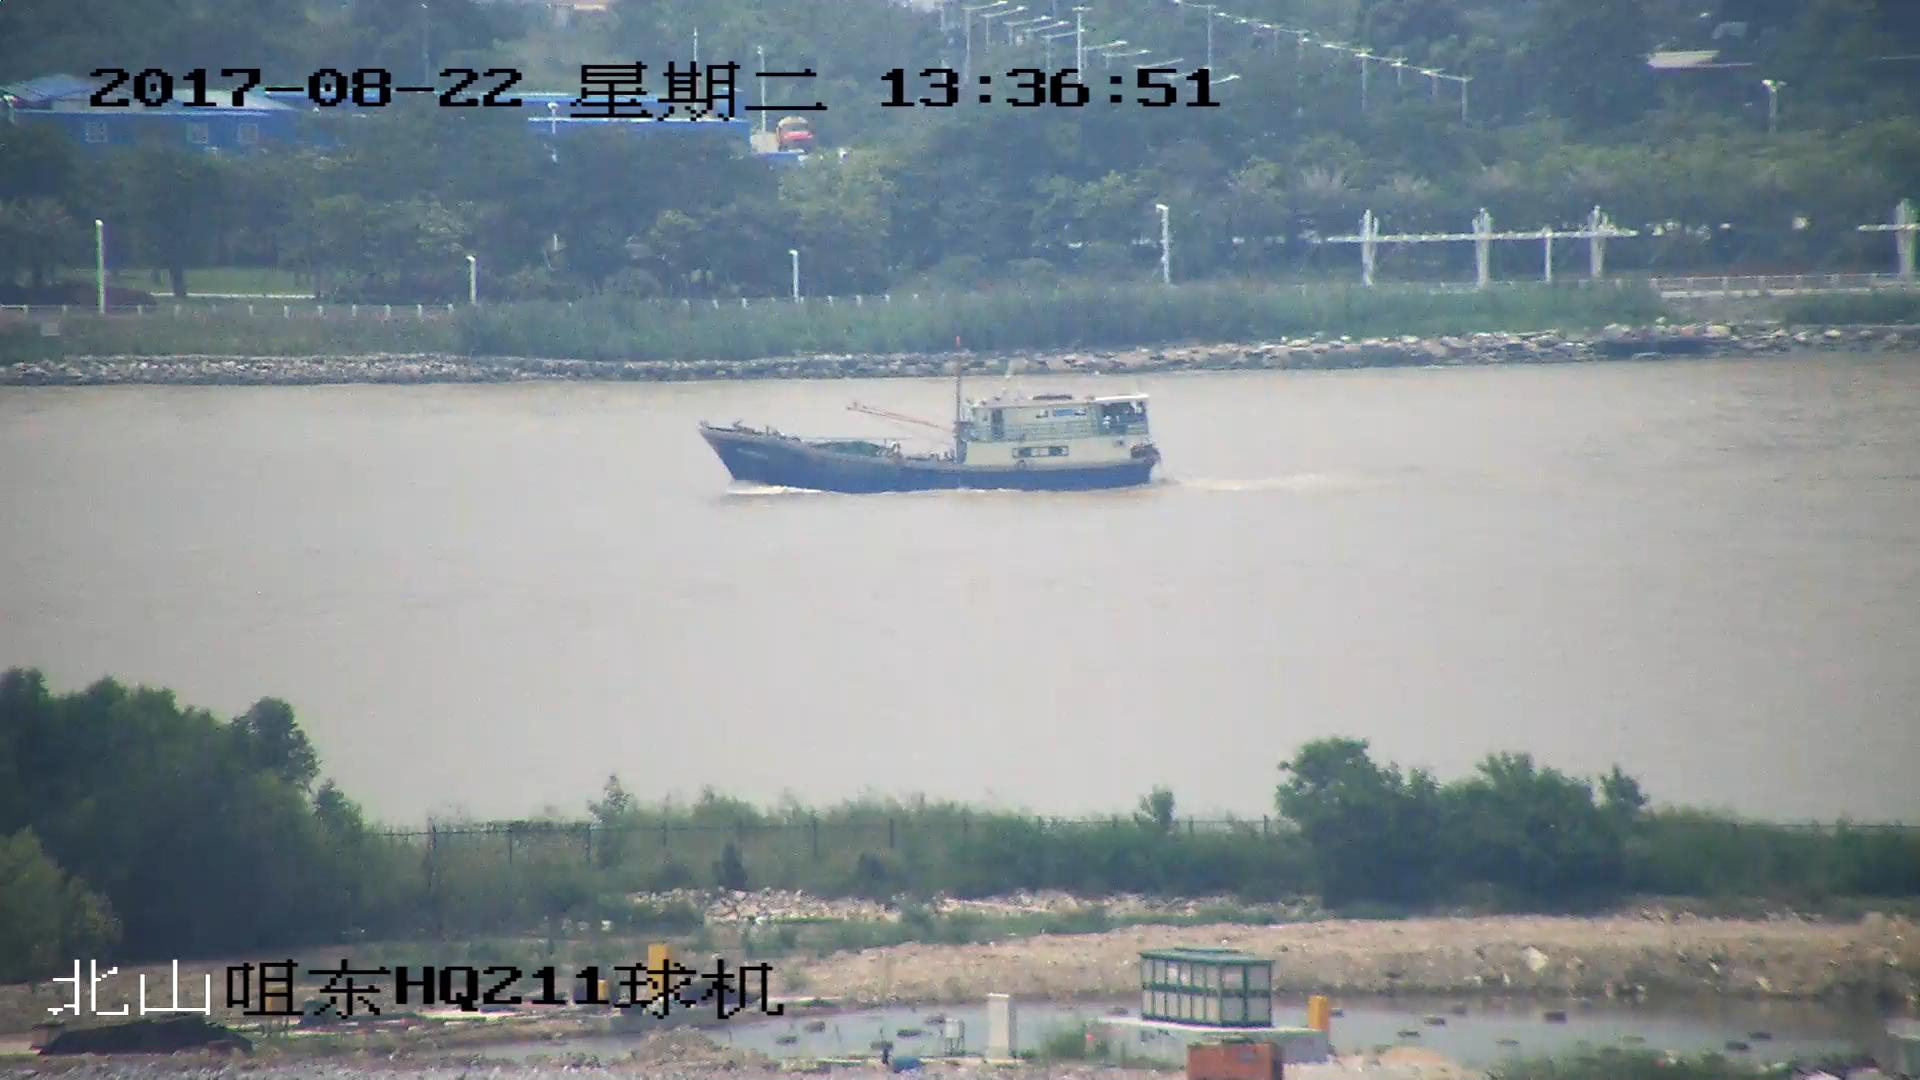fishing boat: (706, 362, 1159, 498)
